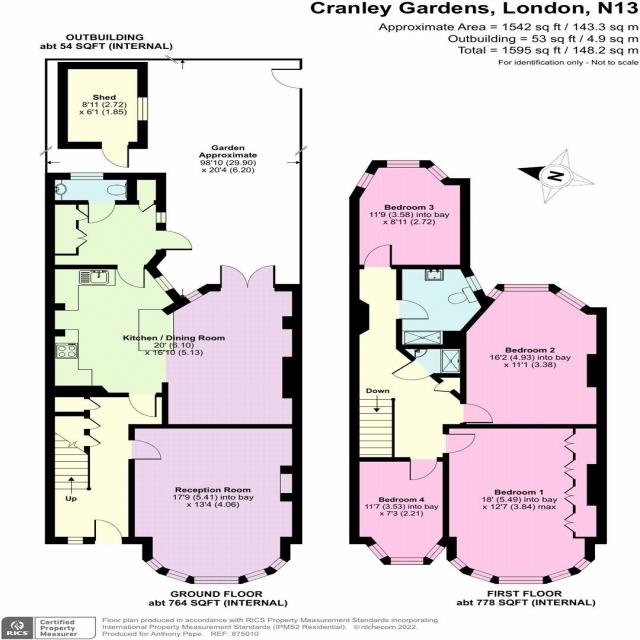DOOR: (389, 357, 436, 381), (362, 244, 394, 269), (155, 230, 193, 251), (127, 392, 157, 418), (459, 402, 494, 424), (93, 519, 123, 544), (408, 457, 439, 481), (442, 433, 477, 454), (116, 264, 145, 289), (396, 299, 430, 320), (128, 439, 162, 460), (87, 200, 116, 224)
DOUBLE DOOR: (220, 264, 277, 291)
ROOM: (45, 264, 303, 429), (128, 424, 303, 585), (442, 424, 607, 585), (460, 283, 607, 429), (348, 160, 472, 269), (349, 457, 449, 566)
WINDOW: (554, 288, 587, 311), (424, 542, 446, 562), (367, 542, 390, 561), (463, 274, 485, 293), (498, 576, 544, 585), (426, 164, 449, 182), (547, 568, 573, 583), (243, 568, 269, 583), (193, 576, 240, 584), (469, 568, 494, 583), (165, 568, 190, 583), (153, 275, 175, 292), (504, 284, 550, 292), (355, 172, 375, 190), (389, 557, 425, 566), (386, 159, 420, 168), (448, 556, 468, 571), (572, 557, 592, 572), (268, 557, 288, 572), (183, 289, 204, 303), (145, 557, 164, 572), (69, 172, 104, 180), (486, 287, 504, 301), (155, 212, 167, 224), (67, 537, 84, 544)
